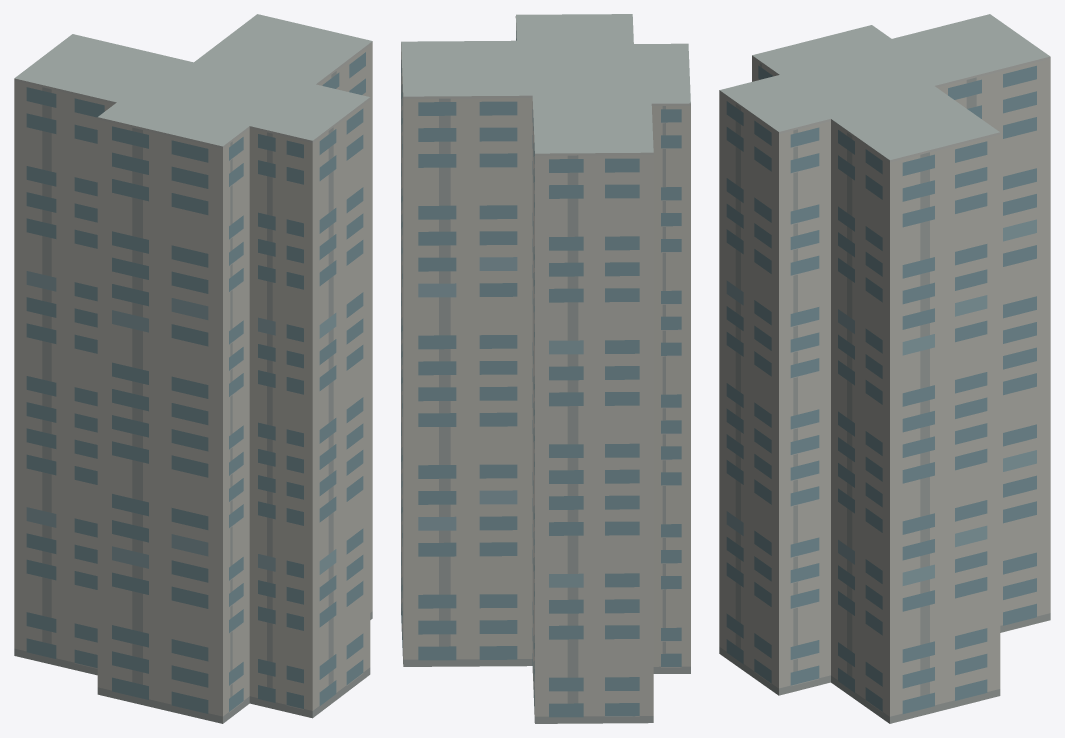
The model's file is residential-b361a93d-f1b7-4be9-9ad8-c24413d8b154.glb.
The picture shows the model from 3 angles, left to right: view 1: azimuth 30°, elevation 25°; view 2: azimuth 150°, elevation 25°; view 3: azimuth 270°, elevation 25°; orthographic projection. The views are drawn at different scales.
Parts seen in each view (by area): view 1: residential-b361a93d-f1b7-4be9-9ad8-c24413d8b154.tmp; view 2: residential-b361a93d-f1b7-4be9-9ad8-c24413d8b154.tmp; view 3: residential-b361a93d-f1b7-4be9-9ad8-c24413d8b154.tmp.
Part boxes in pixels (x1=…): residential-b361a93d-f1b7-4be9-9ad8-c24413d8b154.tmp: x1=14, y1=14, x2=372, y2=723; residential-b361a93d-f1b7-4be9-9ad8-c24413d8b154.tmp: x1=401, y1=14, x2=690, y2=723; residential-b361a93d-f1b7-4be9-9ad8-c24413d8b154.tmp: x1=719, y1=14, x2=1050, y2=723.
Size of the model in its own units: 35.07 by 63 by 33.54.
